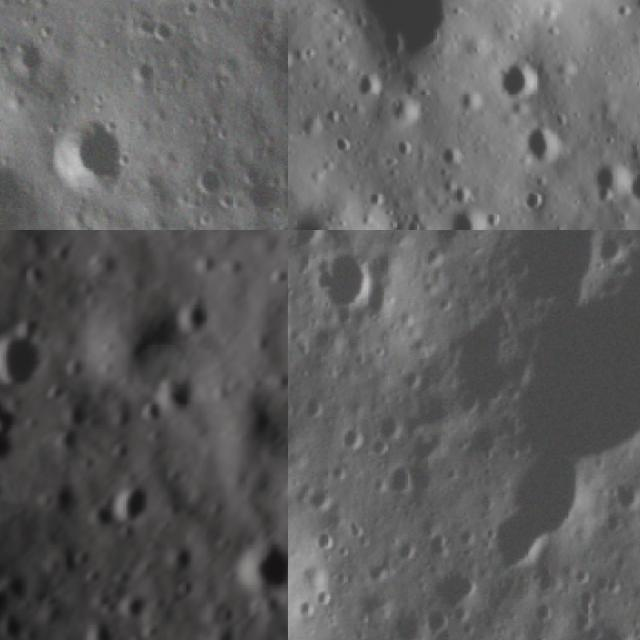crater: (288, 0, 509, 95), (40, 107, 126, 200), (288, 168, 401, 230), (0, 306, 71, 402), (226, 512, 288, 607), (512, 103, 585, 172), (484, 42, 554, 113), (0, 382, 48, 484), (105, 468, 167, 538), (581, 142, 640, 209), (319, 250, 381, 313), (150, 364, 212, 424), (169, 280, 229, 341), (377, 84, 433, 140), (66, 595, 128, 640), (435, 191, 499, 230), (343, 60, 391, 106), (52, 418, 93, 462), (514, 178, 558, 218), (60, 347, 101, 388), (293, 104, 333, 144), (371, 406, 411, 442), (453, 83, 490, 121), (434, 136, 470, 173), (385, 128, 422, 162), (618, 155, 640, 212), (298, 488, 336, 520), (322, 130, 359, 162), (388, 459, 419, 496), (300, 394, 331, 423), (288, 34, 306, 83), (610, 0, 640, 28), (399, 208, 430, 230), (148, 18, 171, 46), (460, 575, 483, 602), (313, 531, 342, 551), (313, 585, 335, 610), (294, 603, 322, 622), (632, 503, 640, 536)
